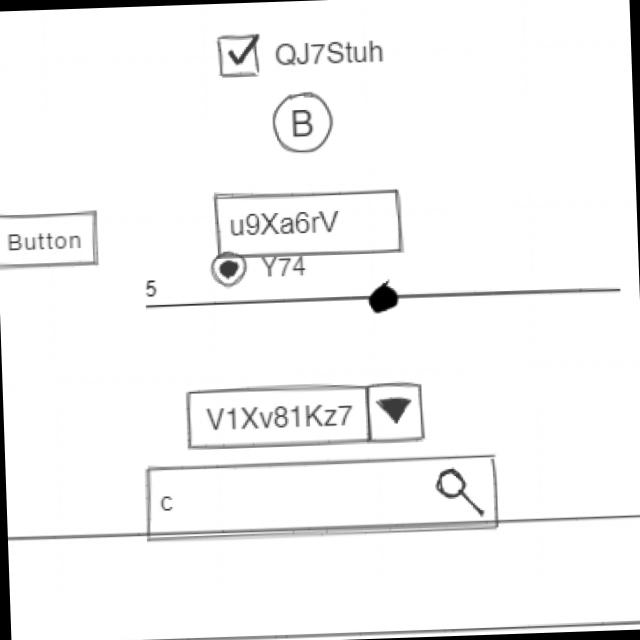button: (1, 207, 103, 271)
checkbox: (215, 27, 388, 81), (210, 248, 309, 289)
container: (8, 512, 640, 640)
icon-button: (272, 91, 336, 157)
input: (212, 185, 406, 262)
search: (143, 451, 504, 546)
select: (184, 378, 430, 453)
slider: (170, 272, 624, 324)
